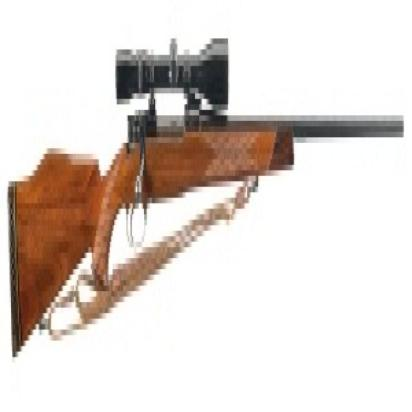Gun: (5, 22, 406, 378)
